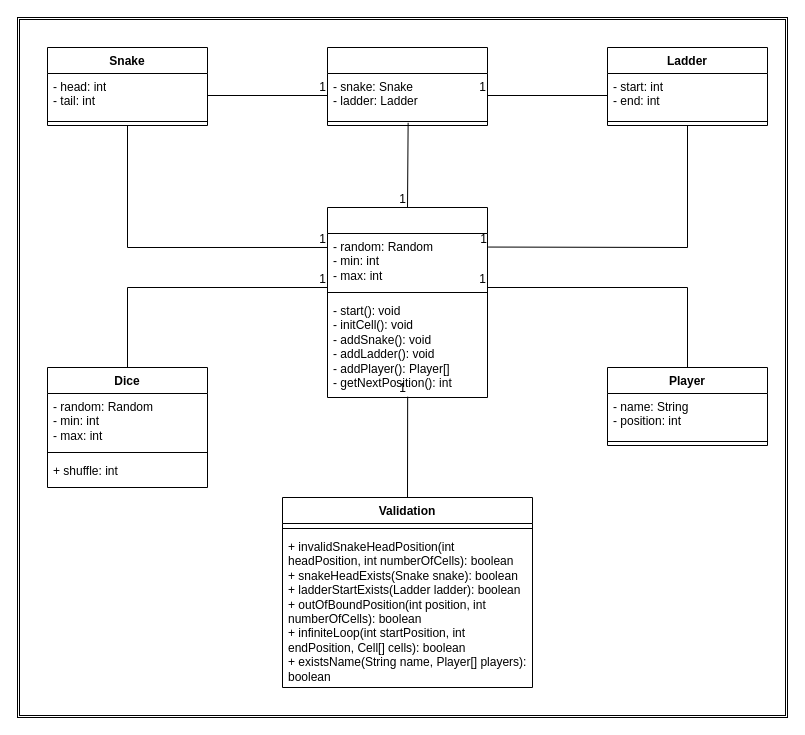
This 805x735 diagram has some shape labels left out. Each missing label, with the box of its shape:
Cell: (326, 46, 488, 126)
Main: (326, 206, 488, 398)
